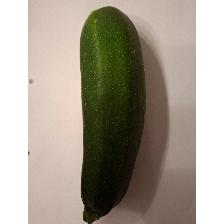Zucchini: (76, 4, 148, 224)
